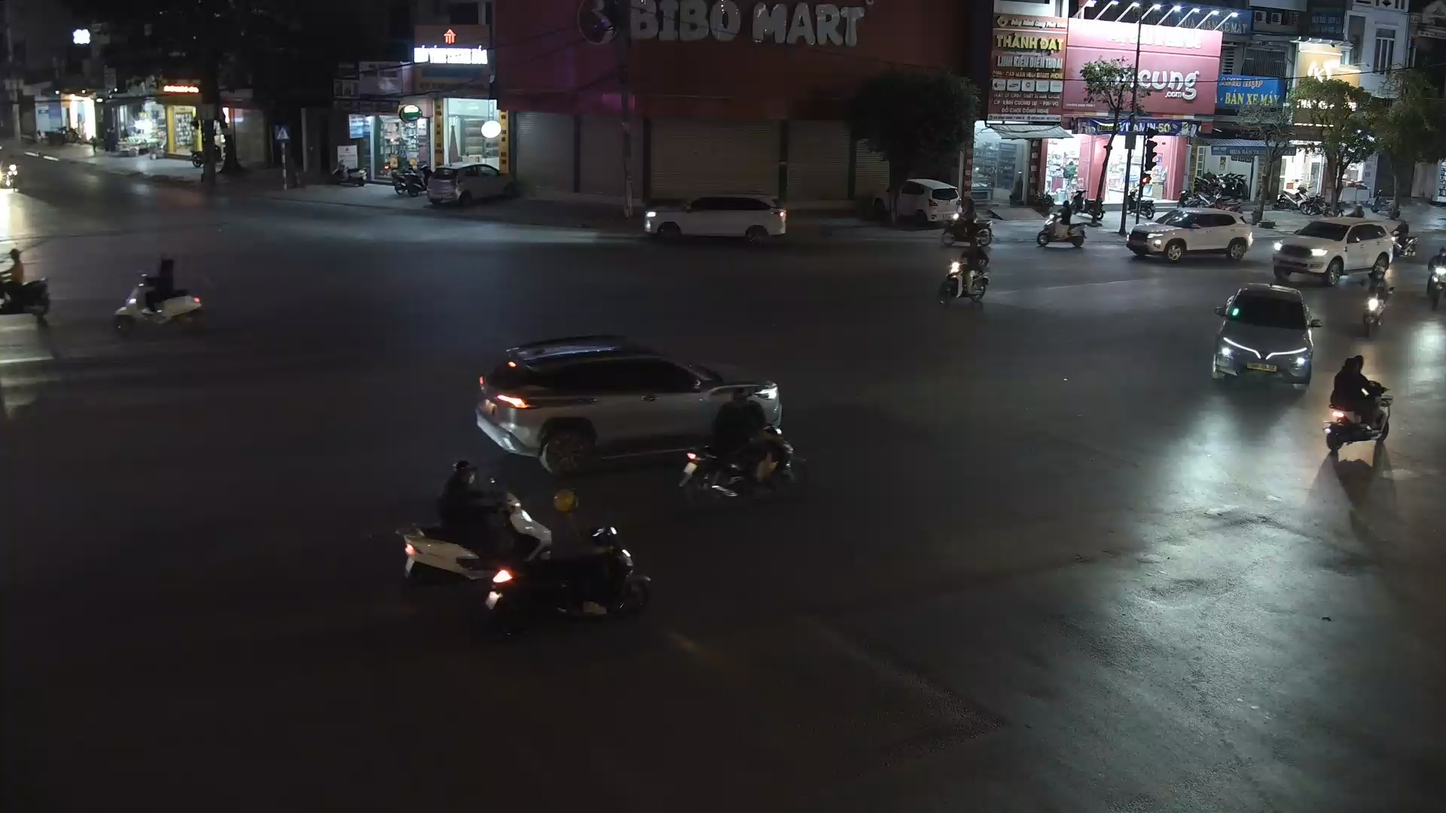car: (473, 334, 788, 474), (477, 485, 654, 643), (1210, 283, 1320, 394), (1272, 214, 1394, 287), (1125, 203, 1255, 264), (0, 258, 52, 326)
motorbike: (398, 456, 555, 592), (677, 389, 802, 507), (1321, 351, 1393, 479), (110, 252, 206, 335), (936, 239, 992, 308), (941, 190, 997, 249), (1036, 194, 1089, 250), (1359, 259, 1392, 337), (1424, 244, 1445, 310)
